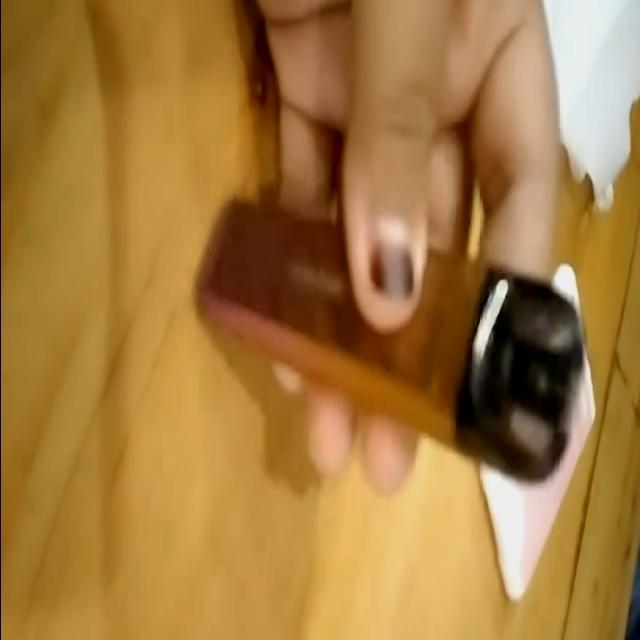Hazard: (198, 195, 583, 486)
